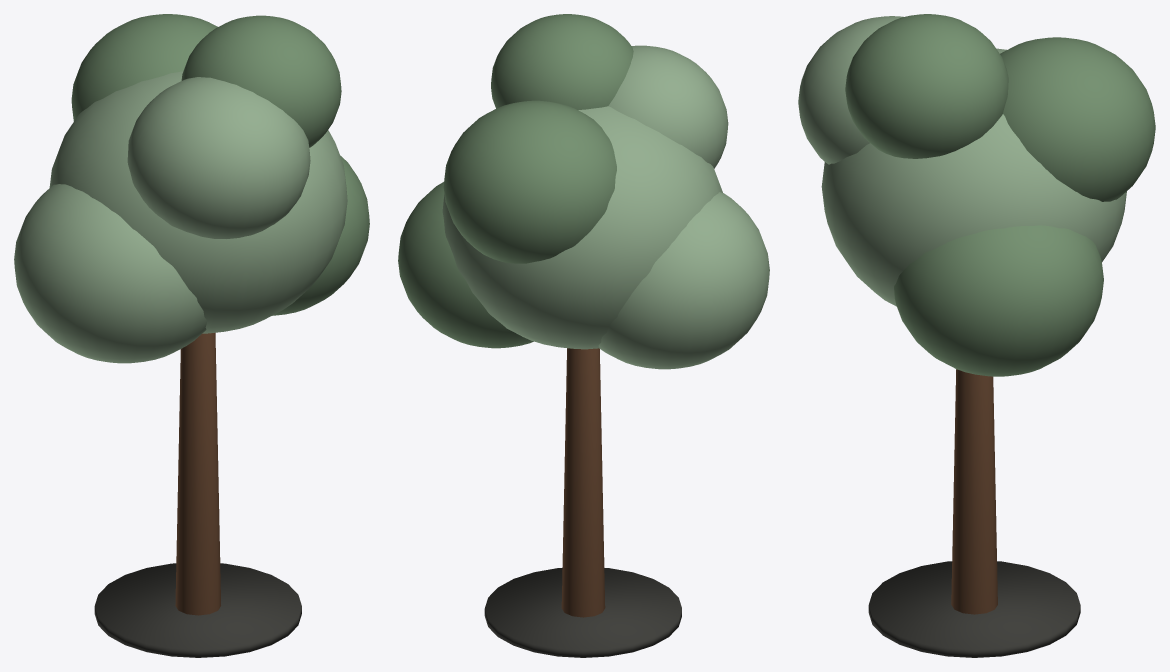
File: arbre.glb
The picture shows the model from 3 angles, left to right: view 1: azimuth 30°, elevation 25°; view 2: azimuth 150°, elevation 25°; view 3: azimuth 270°, elevation 25°; orthographic projection. The views are drawn at different scales.
Visible parts, largest first — view 1: feuillage0, feuillage2, feuillage4, grille, feuillage5, tronc, feuillage3, feuillage1; view 2: feuillage0, feuillage3, feuillage2, grille, feuillage5, tronc, feuillage1, feuillage4; view 3: feuillage0, feuillage1, feuillage3, feuillage5, grille, tronc, feuillage4.
Boxes of the visible parts, bbox=[...] form: feuillage0: bbox=[49, 71, 347, 333]; feuillage2: bbox=[14, 184, 206, 363]; feuillage4: bbox=[127, 77, 310, 238]; grille: bbox=[94, 563, 301, 657]; feuillage5: bbox=[181, 15, 341, 147]; tronc: bbox=[175, 332, 220, 615]; feuillage3: bbox=[71, 14, 217, 121]; feuillage1: bbox=[272, 155, 369, 315]; feuillage0: bbox=[442, 106, 722, 349]; feuillage3: bbox=[443, 100, 616, 263]; feuillage2: bbox=[598, 192, 769, 369]; grille: bbox=[484, 567, 681, 657]; feuillage5: bbox=[491, 14, 633, 110]; tronc: bbox=[561, 348, 605, 617]; feuillage1: bbox=[398, 182, 533, 348]; feuillage4: bbox=[608, 45, 728, 168]; feuillage0: bbox=[821, 48, 1126, 306]; feuillage1: bbox=[894, 225, 1103, 376]; feuillage3: bbox=[1000, 37, 1155, 201]; feuillage5: bbox=[845, 14, 1008, 158]; grille: bbox=[868, 561, 1080, 657]; tronc: bbox=[951, 369, 997, 614]; feuillage4: bbox=[798, 16, 903, 164].
Size of the model in its own units: 1.73 by 2.87 by 1.52.
